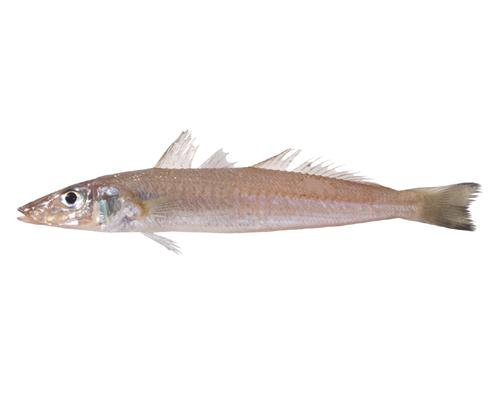kiss: (13, 125, 480, 262)
